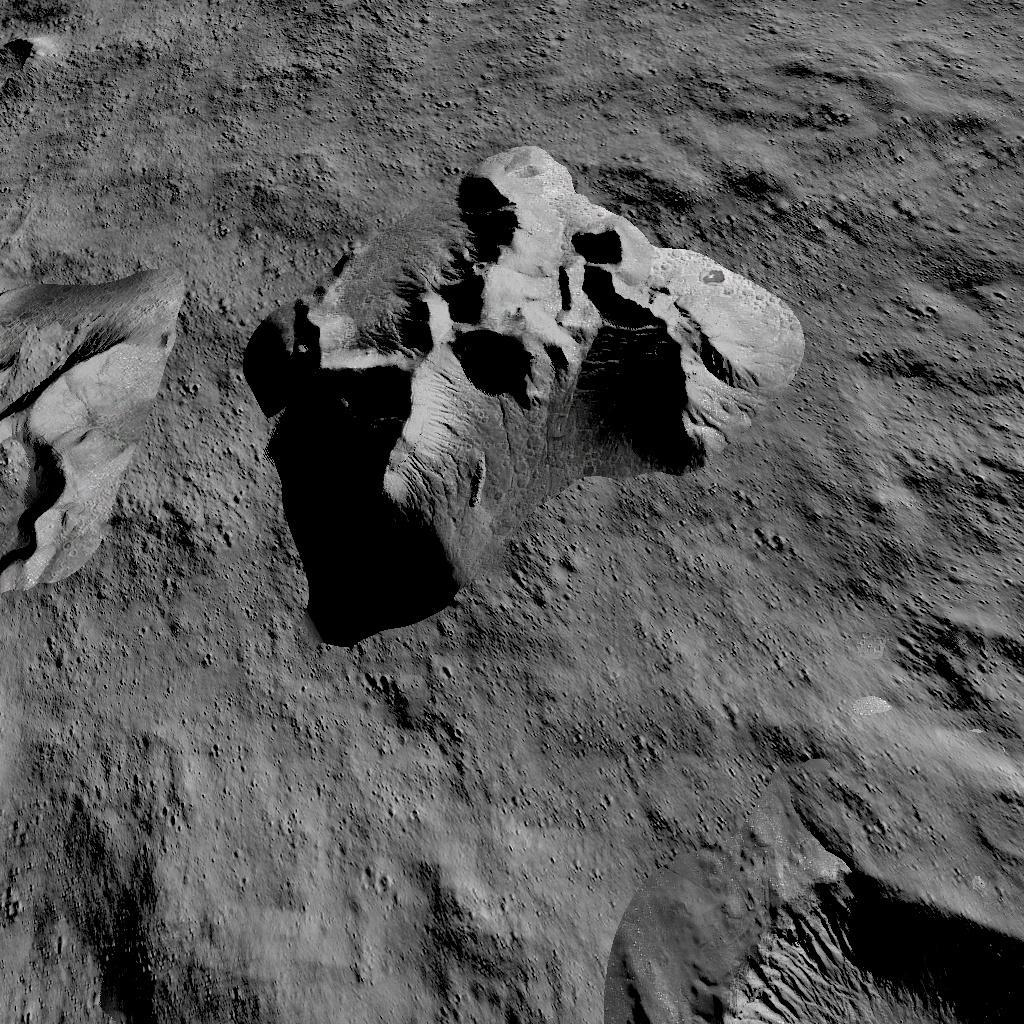Boulders: (237, 138, 809, 646), (0, 246, 192, 588)
Crater: (647, 843, 1024, 1024), (909, 604, 1024, 745), (86, 916, 180, 1024), (0, 24, 46, 77)
Plan surface: (214, 664, 632, 1024), (233, 0, 1024, 117), (826, 144, 1022, 580), (7, 606, 198, 890), (656, 662, 884, 820), (56, 10, 212, 234)
